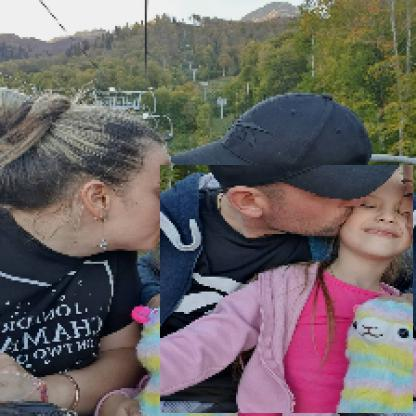child: (161, 166, 415, 415)
